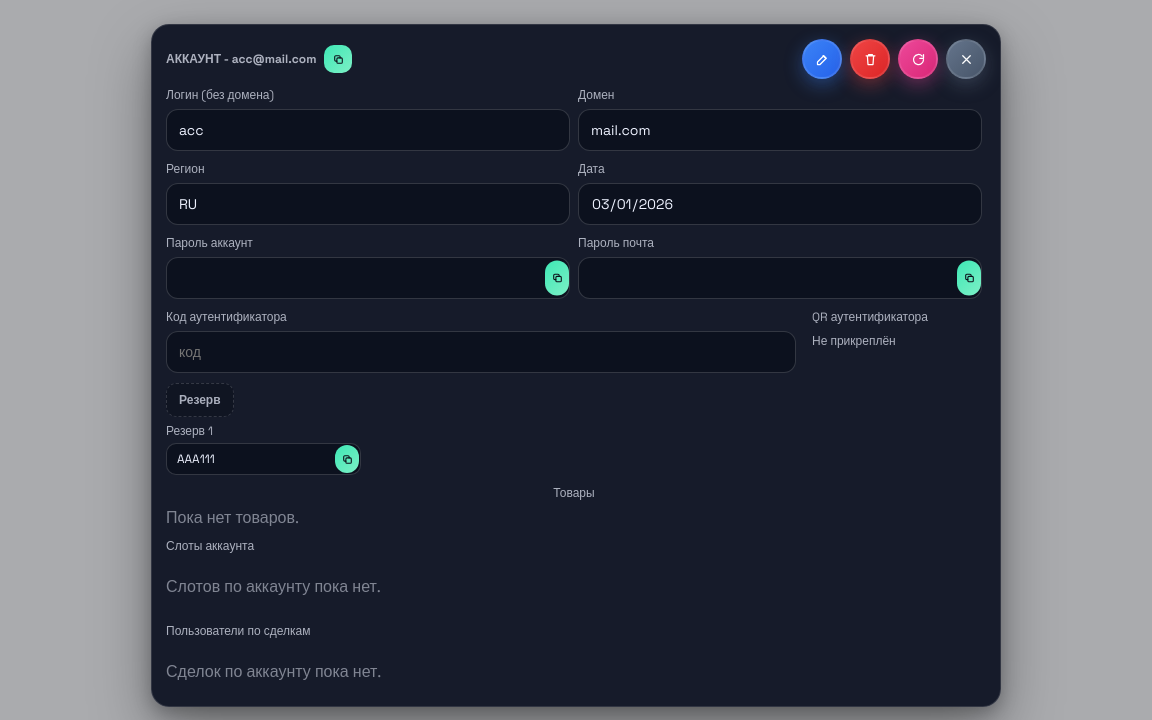
it: WorkAccountEditorModal › marks reserve as used and removes copy access after clipboard action
What coordinates should you click on to do the following:
click the button named "Копировать Резерв 1"
I would click on:
 (347, 459)
Its box is [335,445,359,473].
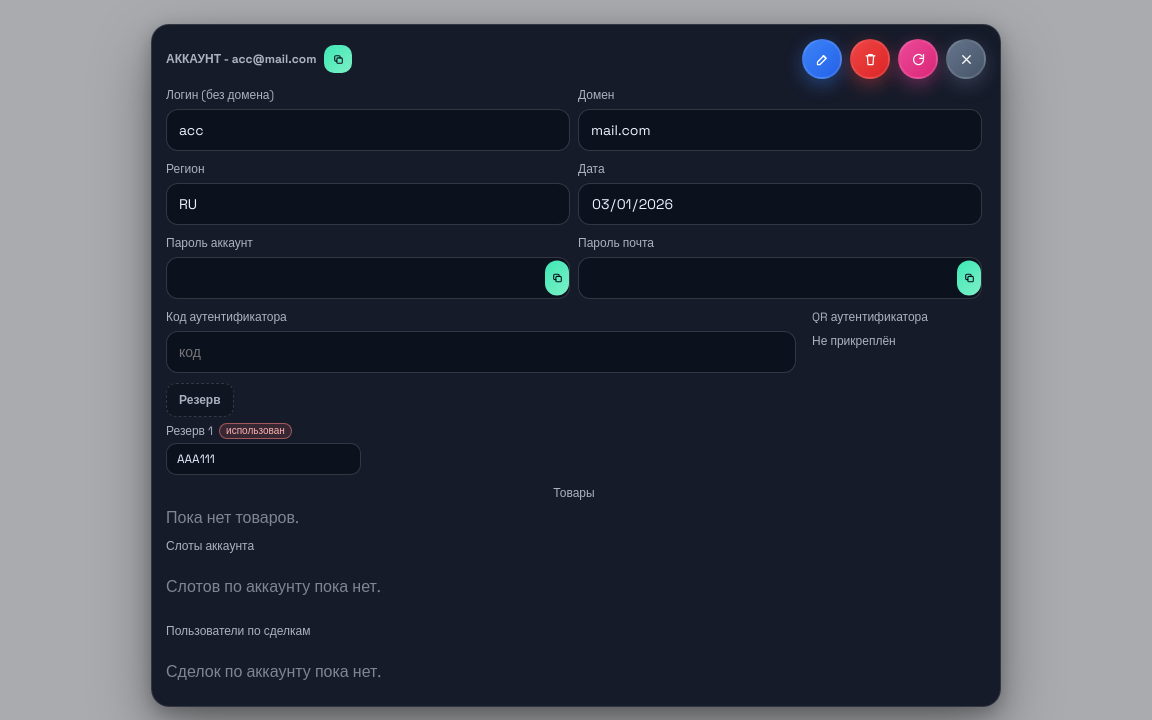
Check: the 7th field holds "AAA111", box [166,443,361,475]
Check: the text with class "account-reserve-row__badge" reads "использован", box [226,424,285,437]
